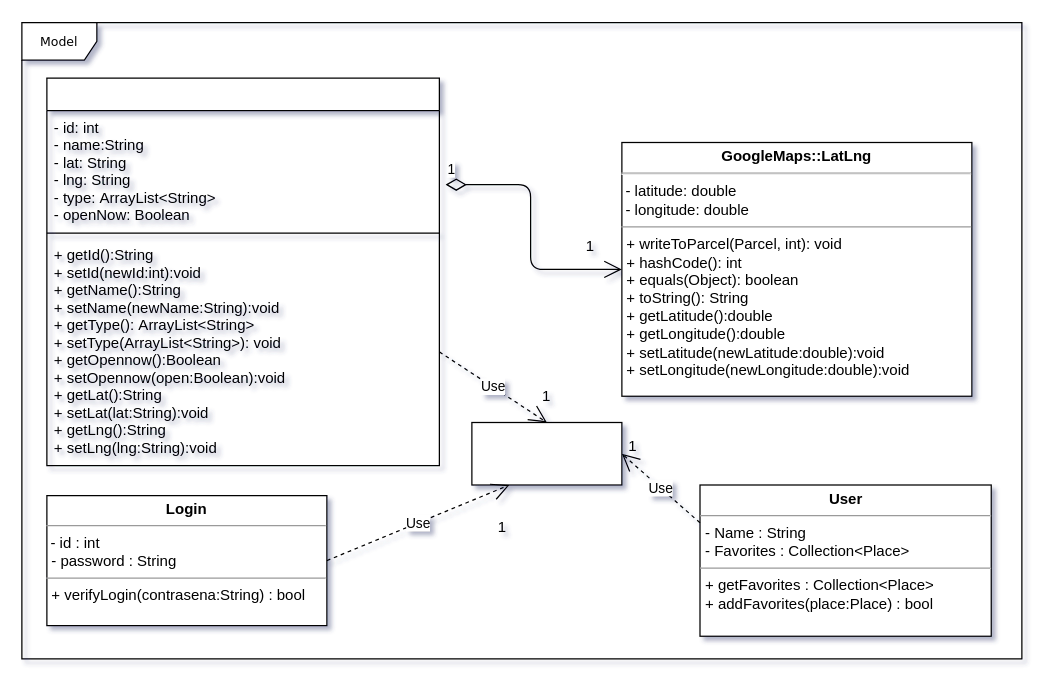
The diagram is 1051 pixels wide and 688 high, and some of its shapes have lost their labels. The box of each missing label's shape, as (x1, y1, x2, y2) in pixels:
DatabaseInteractor: (471, 421, 622, 485)
Place: (46, 77, 439, 466)
